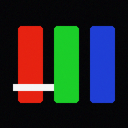3 line_h: (13, 84, 53, 90)
